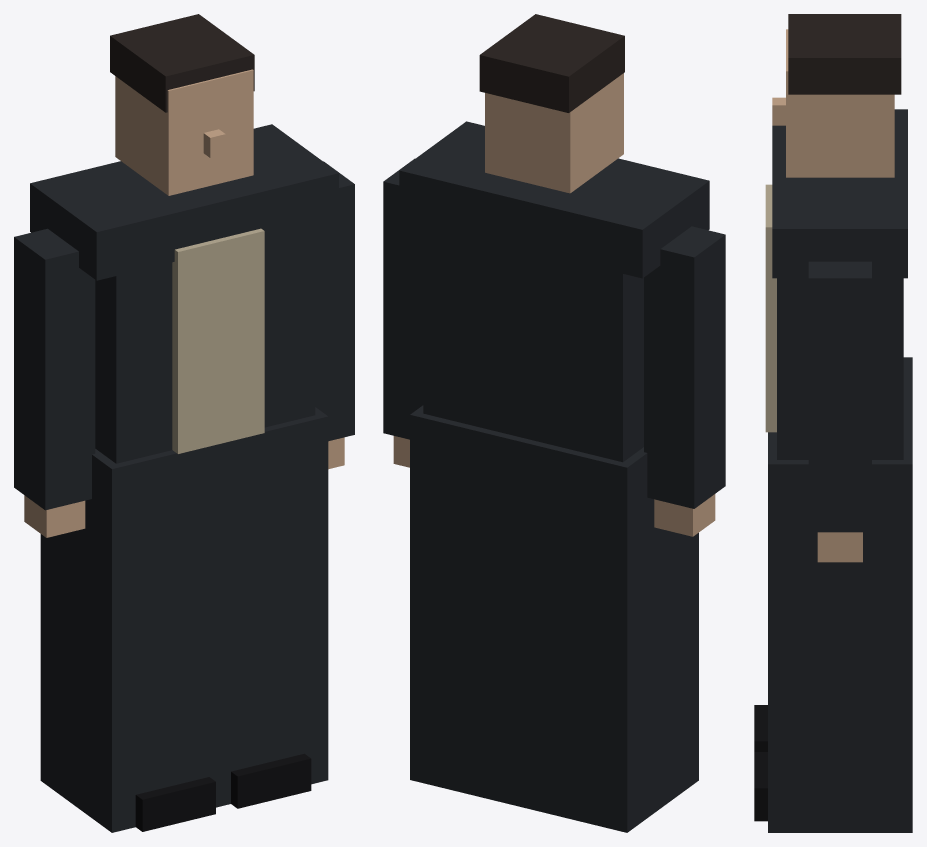
The model's file is CHR_ExMob.glb.
3 views of the same model, side by side, from view 1: azimuth 30°, elevation 25°; view 2: azimuth 150°, elevation 25°; view 3: azimuth 270°, elevation 25° (orthographic).
Parts seen in each view (by area): view 1: CHR_ExMob_Coat_Geo, CHR_ExMob_Chest_Geo, CHR_ExMob_Shoulders_Geo, CHR_ExMob_ArmL_Geo, CHR_ExMob_Front_Geo, CHR_ExMob_Skull_Geo, CHR_ExMob_ArmR_Geo, CHR_ExMob_Hair_Geo, CHR_ExMob_ShoeL_Geo, CHR_ExMob_ShoeR_Geo, CHR_ExMob_HandL_Geo; view 2: CHR_ExMob_Coat_Geo, CHR_ExMob_Chest_Geo, CHR_ExMob_Shoulders_Geo, CHR_ExMob_ArmL_Geo, CHR_ExMob_Skull_Geo, CHR_ExMob_Hair_Geo, CHR_ExMob_ArmR_Geo, CHR_ExMob_HandL_Geo; view 3: CHR_ExMob_Coat_Geo, CHR_ExMob_ArmR_Geo, CHR_ExMob_Shoulders_Geo, CHR_ExMob_Chest_Geo, CHR_ExMob_Skull_Geo, CHR_ExMob_Hair_Geo, CHR_ExMob_Front_Geo, CHR_ExMob_HandR_Geo, CHR_ExMob_ShoeR_Geo, CHR_ExMob_ShoeL_Geo, CHR_ExMob_Nose_Geo.
Boxes of the visible parts, x1,y1,x2,y2 form: CHR_ExMob_Coat_Geo: (40, 407, 328, 832); CHR_ExMob_Chest_Geo: (95, 227, 315, 463); CHR_ExMob_Shoulders_Geo: (30, 124, 338, 280); CHR_ExMob_ArmL_Geo: (14, 228, 95, 510); CHR_ExMob_Front_Geo: (172, 228, 264, 453); CHR_ExMob_Skull_Geo: (115, 69, 253, 195); CHR_ExMob_ArmR_Geo: (315, 161, 354, 441); CHR_ExMob_Hair_Geo: (110, 14, 254, 112); CHR_ExMob_ShoeL_Geo: (135, 777, 215, 831); CHR_ExMob_ShoeR_Geo: (231, 753, 311, 808); CHR_ExMob_HandL_Geo: (24, 495, 85, 537); CHR_ExMob_Coat_Geo: (410, 405, 698, 832); CHR_ExMob_Chest_Geo: (423, 225, 643, 462); CHR_ExMob_Shoulders_Geo: (399, 121, 709, 278); CHR_ExMob_ArmL_Geo: (644, 226, 725, 508); CHR_ExMob_Skull_Geo: (485, 73, 623, 193); CHR_ExMob_Hair_Geo: (479, 14, 624, 112); CHR_ExMob_ArmR_Geo: (383, 158, 423, 439); CHR_ExMob_HandL_Geo: (654, 494, 715, 536); CHR_ExMob_Coat_Geo: (768, 357, 912, 832); CHR_ExMob_ArmR_Geo: (808, 261, 871, 532); CHR_ExMob_Shoulders_Geo: (772, 109, 907, 278); CHR_ExMob_Chest_Geo: (777, 278, 903, 459); CHR_ExMob_Skull_Geo: (786, 29, 894, 177); CHR_ExMob_Hair_Geo: (788, 14, 901, 94); CHR_ExMob_Front_Geo: (765, 184, 776, 432); CHR_ExMob_HandR_Geo: (817, 532, 862, 562); CHR_ExMob_ShoeR_Geo: (754, 752, 767, 821); CHR_ExMob_ShoeL_Geo: (754, 705, 767, 751); CHR_ExMob_Nose_Geo: (772, 97, 785, 125).
Size of the model in its own units: 0.8243 by 1.87 by 0.3597.
